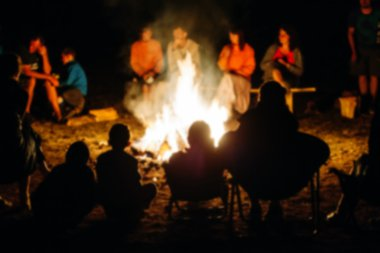fire: (164, 55, 213, 130), (132, 97, 163, 149), (208, 88, 230, 137)
